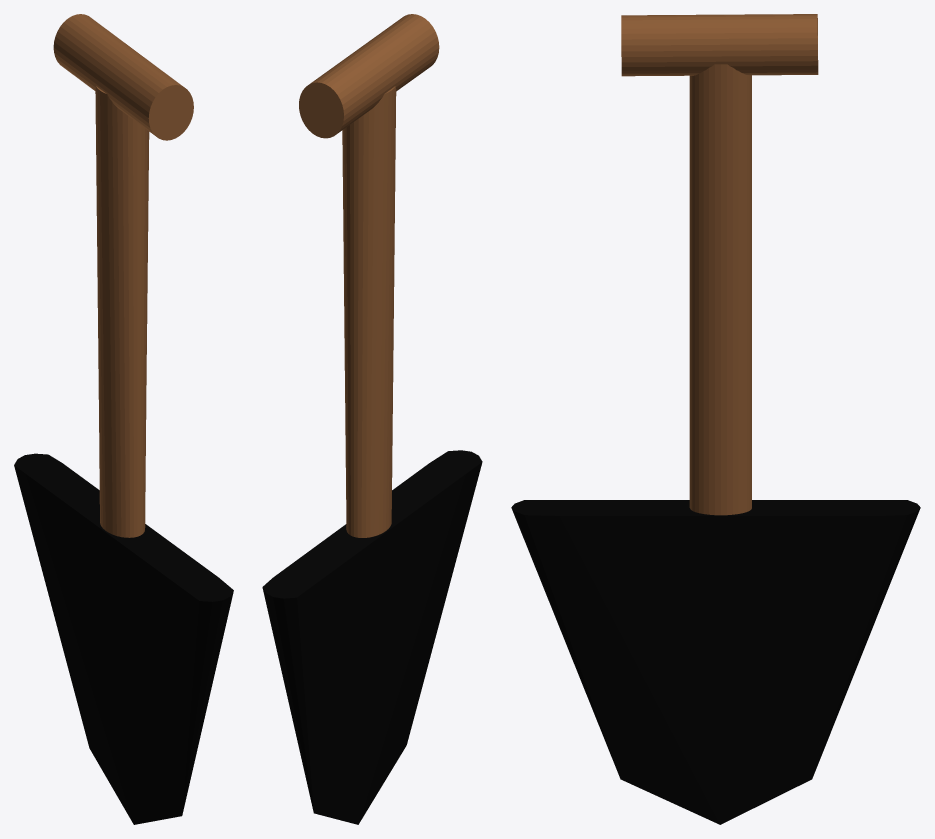
The model's file is Shovel.fbx.
3 renders of one model, left to right at view 1: azimuth 30°, elevation 25°; view 2: azimuth 150°, elevation 25°; view 3: azimuth 270°, elevation 25°, orthographic. The views are drawn at different scales.
Parts seen in each view (by area): view 1: Cone, Cylinder, Cylinder.001; view 2: Cone, Cylinder, Cylinder.001; view 3: Cone, Cylinder, Cylinder.001.
Part boxes in pixels (x1,y1,x2,y2): Cone: (14,453,233,824); Cylinder: (95,86,149,537); Cylinder.001: (53,14,193,140); Cone: (262,450,482,824); Cylinder: (342,86,396,537); Cylinder.001: (299,14,439,138); Cone: (511,500,920,824); Cylinder: (689,64,751,515); Cylinder.001: (621,14,818,76).
Bounding box in the file's own units: 21.34 × 347 × 160.
